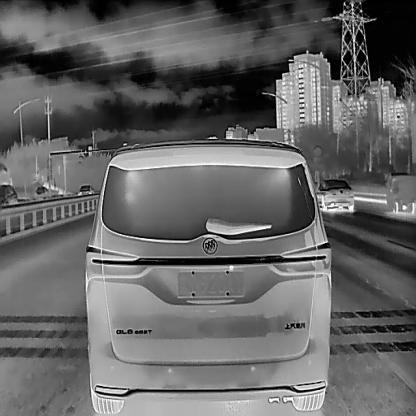car: (82, 133, 331, 414), (313, 175, 355, 213), (0, 182, 14, 204), (76, 182, 96, 195), (34, 186, 47, 198)
truck: (382, 169, 416, 214)
